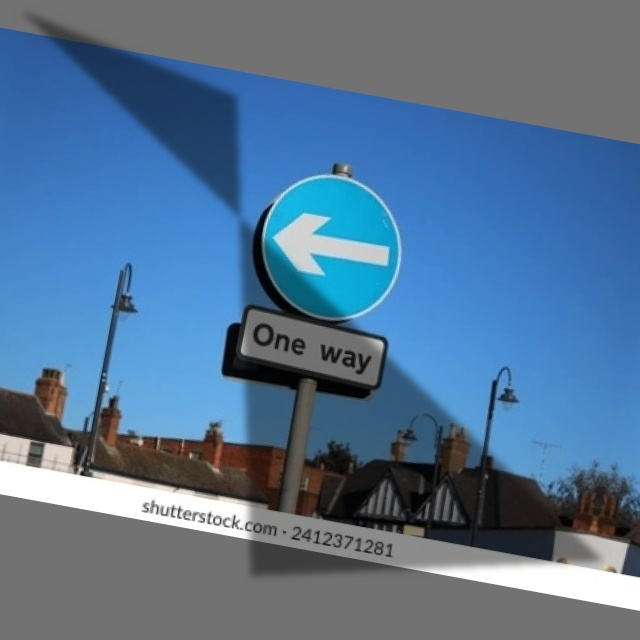Compulsory_Turn_Left: (238, 158, 416, 333)
